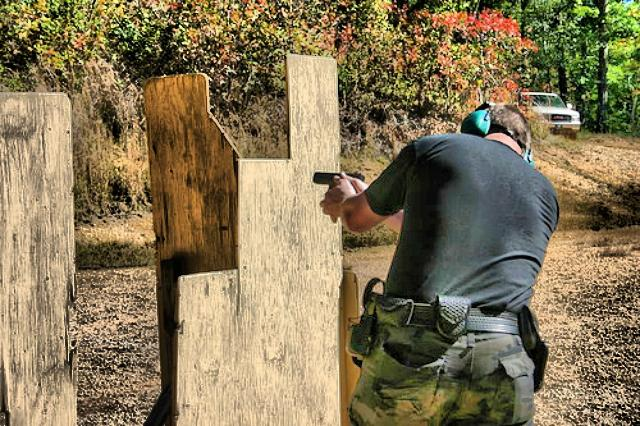pistol: (312, 169, 364, 195)
